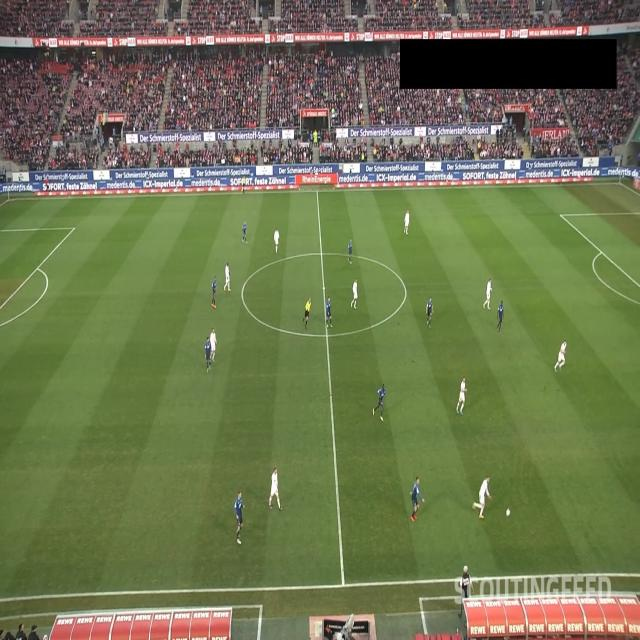ball: (506, 508, 511, 517)
